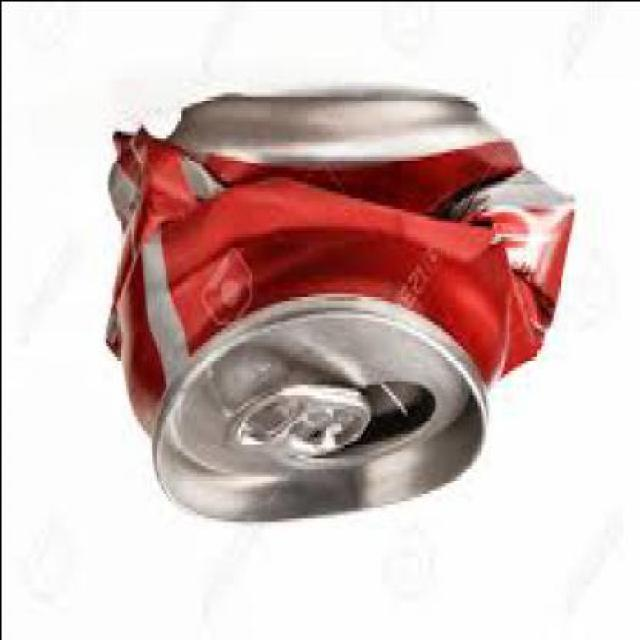METAL: (102, 88, 580, 528), (225, 390, 373, 461)
